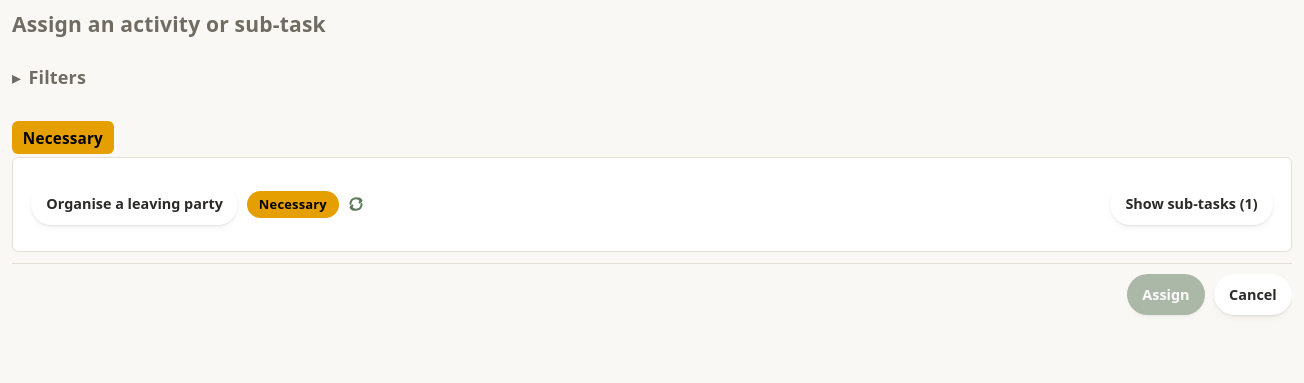
Scenario: AssignActivityPicker › FRONTEND-009-AC-24: each activity and sub-task shows its category › renders a CategoryChip next to the activity and its sub-task
This screenshot has width=1304, height=383.
Expected: the text "Necessary" is shown, [247,191,339,218]
Click the button "Show sub-tasks (1)".
click(1192, 204)  # box [1110,184,1273,225]
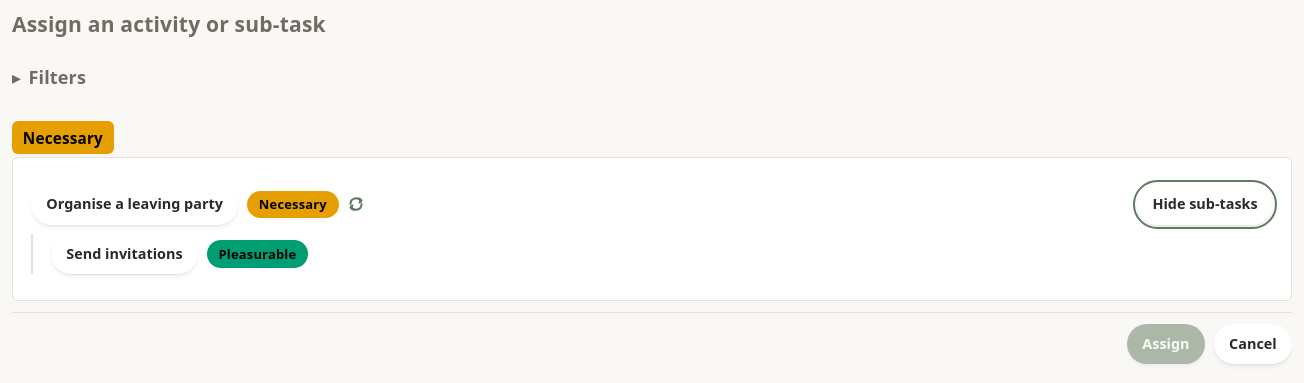
Expected: the text "Pleasurable" is shown, [207,240,308,268]
